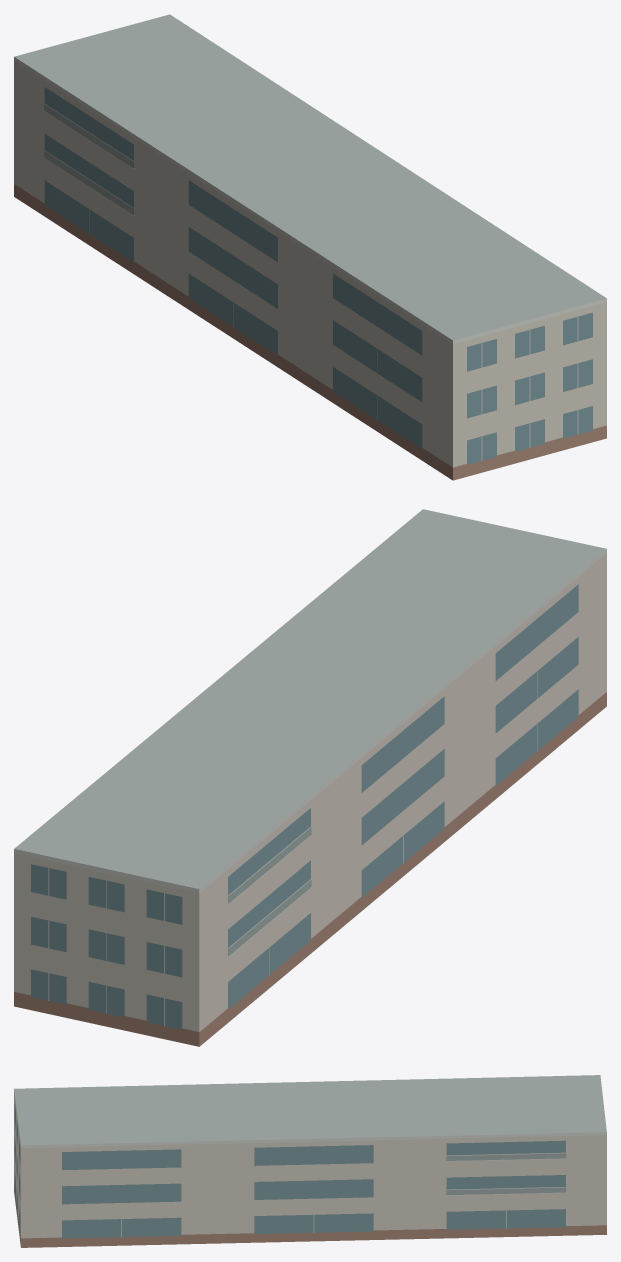
File: survey-upis-32782538.glb
The picture shows the model from 3 angles, top to bottom: view 1: azimuth 30°, elevation 25°; view 2: azimuth 150°, elevation 25°; view 3: azimuth 270°, elevation 25°; orthographic projection. The views are drawn at different scales.
Parts seen in each view (by area): view 1: survey-upis-32782538.tmp; view 2: survey-upis-32782538.tmp; view 3: survey-upis-32782538.tmp.
Boxes of the visible parts, x1,y1,x2,y2 form: survey-upis-32782538.tmp: (14, 14, 606, 480); survey-upis-32782538.tmp: (14, 509, 606, 1046); survey-upis-32782538.tmp: (14, 1075, 606, 1247).
Size of the model in its own units: 13.48 by 9.15 by 47.96.
